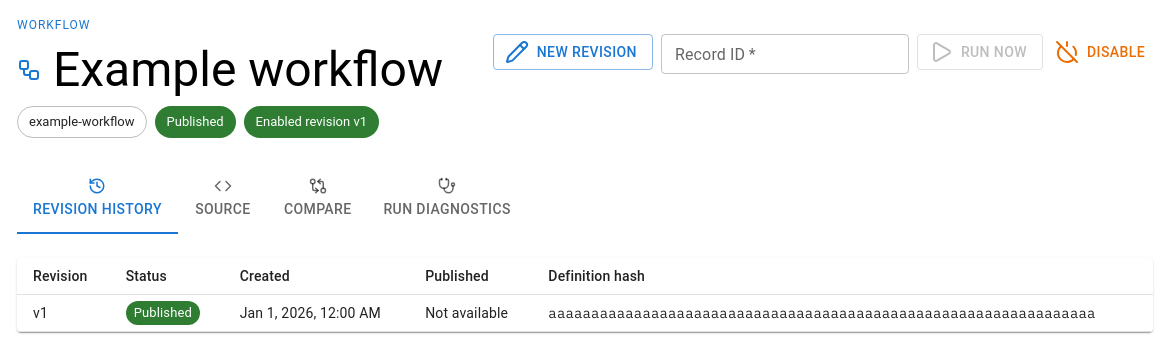
WorkflowDetailPage › explains a mistyped manual record ID instead of sending it
Step 1. Type "abc" into the field named "Manual run record ID" → (785, 54), box [661,34,909,74]
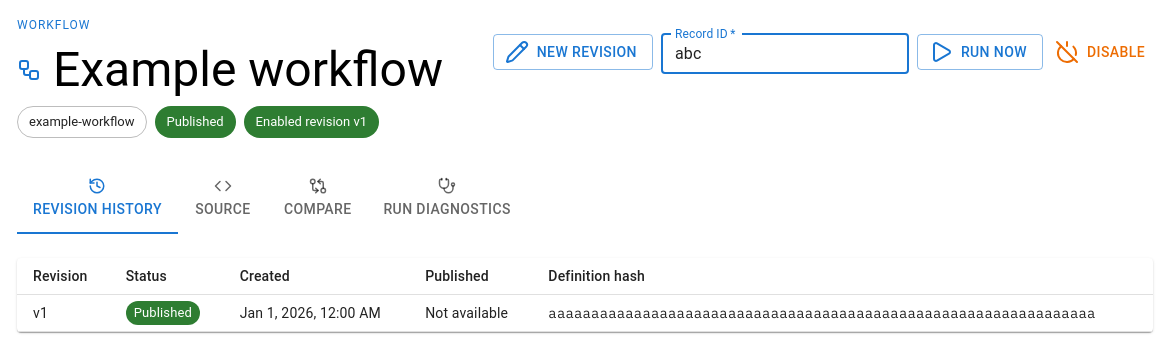
Step 2. Click the button "Run now" → (980, 52), box [917,34,1043,70]
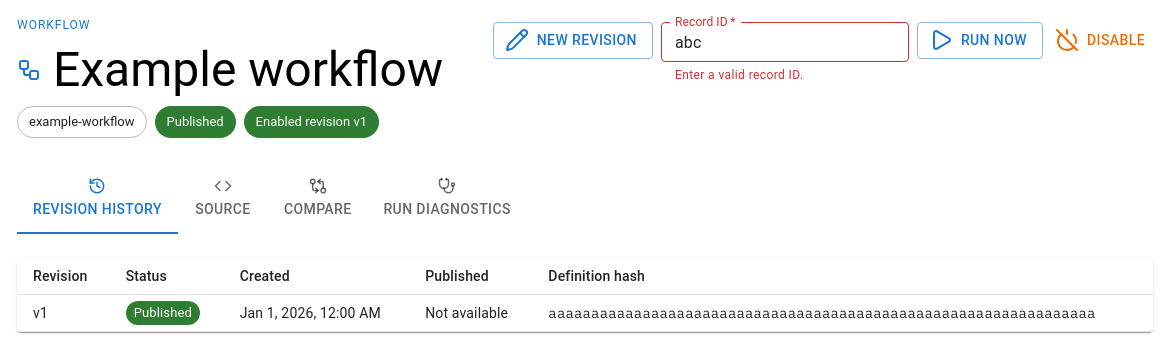
Expected: the text "Enter a valid record ID." is shown, [675,68,804,82]
Step 3. Type "d" into the field named "Manual run record ID" → (785, 42), box [661,22,909,62]
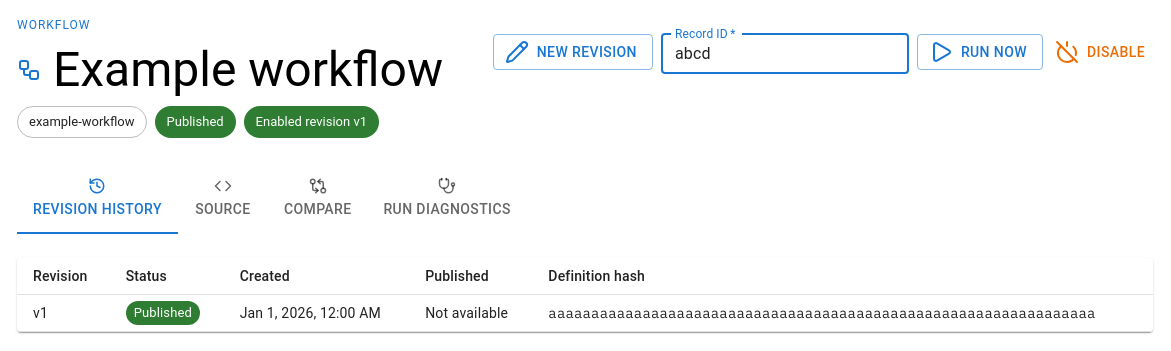
Expected: the text "Enter a valid record ID." is gone
